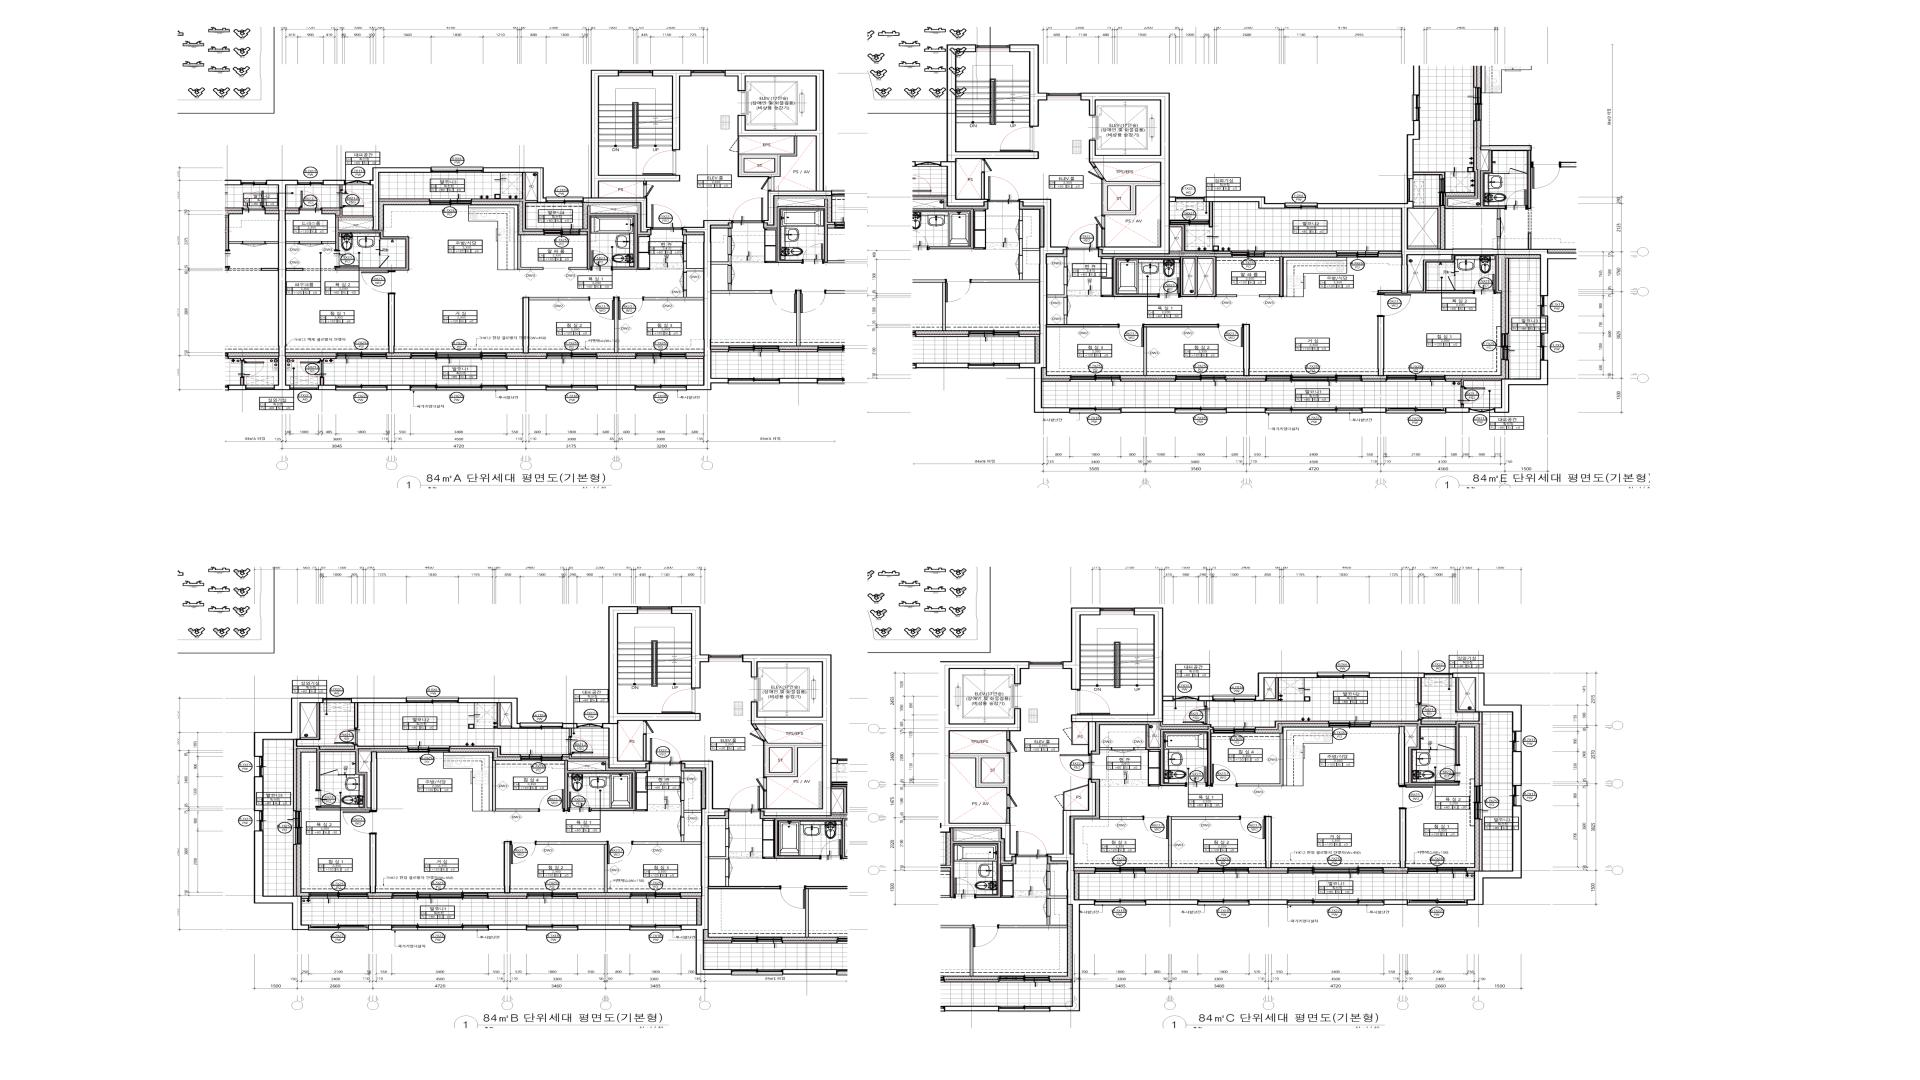door: (661, 688, 696, 713), (1000, 127, 1034, 152), (642, 150, 676, 175), (1399, 785, 1433, 810), (1076, 690, 1110, 715), (649, 738, 680, 765), (651, 204, 683, 231), (1067, 224, 1098, 251), (1059, 754, 1092, 779), (343, 811, 377, 835), (361, 270, 396, 294), (729, 786, 760, 812), (1377, 294, 1411, 316), (617, 297, 645, 320), (1218, 323, 1244, 347), (1118, 323, 1143, 347), (608, 841, 633, 865), (1143, 816, 1168, 840), (1212, 764, 1237, 787), (589, 297, 615, 320), (538, 790, 564, 812), (510, 841, 535, 864), (1240, 816, 1265, 839), (1158, 277, 1180, 298), (568, 791, 591, 812), (1185, 766, 1208, 787), (591, 251, 613, 272), (299, 190, 322, 211), (1461, 386, 1486, 405), (568, 736, 593, 754), (1183, 705, 1208, 724), (1435, 765, 1461, 782), (339, 190, 364, 207), (315, 790, 340, 807), (334, 251, 359, 268), (1474, 274, 1495, 294), (299, 361, 324, 377), (334, 729, 357, 745), (1418, 704, 1441, 720), (749, 728, 766, 745), (1085, 167, 1105, 181), (729, 136, 740, 154), (754, 778, 767, 791), (1006, 794, 1018, 808), (644, 182, 654, 198), (1006, 740, 1018, 753), (1112, 746, 1134, 753), (1095, 215, 1105, 228), (981, 160, 992, 173), (644, 721, 654, 735), (378, 255, 389, 268), (1448, 274, 1456, 290), (320, 769, 339, 775), (1437, 744, 1456, 750), (299, 241, 322, 247)
wall: (1316, 200, 1548, 297), (940, 661, 1030, 861), (725, 70, 832, 225), (603, 607, 702, 769), (583, 70, 680, 232), (1081, 92, 1176, 255), (1071, 608, 1174, 754), (947, 45, 1039, 207), (742, 654, 831, 816), (1019, 199, 1071, 413), (680, 761, 732, 975), (683, 220, 733, 390), (293, 740, 407, 811), (1370, 713, 1482, 786), (266, 179, 298, 390), (1047, 779, 1096, 905), (1466, 806, 1523, 905), (255, 831, 309, 930), (1146, 721, 1215, 786), (471, 173, 545, 232), (1113, 256, 1217, 297), (253, 698, 323, 757), (1453, 673, 1522, 732), (369, 167, 431, 231), (335, 218, 409, 270), (522, 297, 589, 353), (1143, 324, 1217, 376), (580, 206, 638, 269), (564, 760, 636, 811), (1168, 816, 1240, 868), (537, 841, 607, 893), (651, 70, 692, 150), (671, 607, 709, 688), (1063, 608, 1101, 690), (443, 752, 493, 812), (1010, 45, 1047, 127), (1494, 360, 1548, 413), (949, 753, 1010, 795), (1408, 256, 1474, 293), (1238, 733, 1283, 786), (483, 167, 547, 203), (493, 761, 538, 811), (764, 741, 822, 778), (1101, 179, 1160, 215), (458, 698, 521, 729), (1170, 224, 1232, 253), (1257, 673, 1319, 702), (1204, 196, 1286, 208), (517, 235, 543, 270), (1047, 315, 1118, 327), (450, 746, 521, 757), (301, 703, 320, 740), (633, 835, 702, 845), (1456, 678, 1476, 712), (644, 290, 703, 301), (1255, 721, 1329, 729), (770, 748, 793, 773), (981, 758, 1004, 783), (1378, 316, 1385, 376), (371, 752, 377, 811), (1071, 723, 1088, 745), (1399, 810, 1406, 868), (369, 835, 376, 893), (388, 294, 394, 352), (336, 207, 372, 218), (253, 777, 264, 811), (680, 800, 702, 818), (497, 703, 510, 729), (1265, 678, 1279, 702), (1265, 816, 1271, 868), (504, 841, 510, 893), (1244, 324, 1250, 376), (1513, 752, 1522, 786), (1461, 378, 1501, 386), (1399, 727, 1404, 785), (351, 698, 407, 703), (1369, 673, 1425, 678), (1506, 258, 1510, 334), (1121, 407, 1176, 413), (578, 924, 630, 930), (1146, 899, 1199, 905), (286, 356, 336, 361), (1495, 255, 1502, 294), (1047, 285, 1067, 298), (562, 754, 608, 760), (683, 261, 703, 273), (615, 297, 618, 353), (1120, 378, 1176, 382), (1225, 407, 1266, 413), (1145, 870, 1199, 874), (506, 385, 546, 390), (488, 924, 527, 930), (293, 844, 297, 897), (1249, 899, 1288, 905), (1279, 257, 1284, 297), (597, 385, 636, 390), (1265, 251, 1337, 253), (1100, 816, 1143, 820), (1225, 378, 1267, 382), (1249, 870, 1288, 874), (488, 895, 527, 899), (323, 179, 345, 186), (642, 735, 647, 761), (578, 897, 630, 899), (1480, 819, 1482, 870), (1540, 316, 1548, 334), (1362, 407, 1387, 413), (1445, 407, 1470, 413), (380, 199, 430, 202), (386, 385, 411, 390), (353, 703, 359, 728), (1383, 899, 1408, 905), (368, 924, 392, 930), (1042, 378, 1071, 382), (506, 356, 547, 359), (1209, 202, 1213, 228), (981, 173, 985, 199), (596, 356, 636, 359), (562, 723, 578, 729), (1383, 870, 1408, 874), (368, 895, 393, 899), (1418, 678, 1422, 703), (318, 385, 336, 390), (1378, 290, 1402, 294), (1075, 870, 1096, 874), (1199, 696, 1213, 702), (1506, 360, 1510, 378), (1101, 228, 1105, 247), (322, 207, 340, 211), (1361, 380, 1387, 382), (764, 791, 767, 808), (386, 356, 411, 359), (1445, 378, 1461, 382), (1378, 251, 1402, 253), (1006, 808, 1010, 823), (1089, 162, 1097, 169), (680, 895, 700, 898), (1259, 294, 1279, 297), (1217, 294, 1237, 297), (568, 268, 587, 270), (680, 771, 684, 783), (286, 268, 303, 270), (686, 356, 703, 359), (319, 377, 324, 385), (683, 235, 687, 244), (286, 241, 299, 244), (322, 241, 335, 244), (286, 208, 299, 211), (1101, 257, 1113, 260), (1466, 870, 1474, 874), (568, 729, 572, 737), (1134, 748, 1146, 750), (1100, 748, 1112, 750), (1006, 732, 1010, 740), (752, 725, 758, 729), (1064, 257, 1067, 266), (302, 897, 309, 899), (1147, 785, 1160, 786), (1101, 295, 1113, 297), (339, 186, 343, 190), (1461, 405, 1464, 407)
window: (392, 924, 488, 931), (410, 385, 506, 392), (1266, 407, 1362, 414), (393, 893, 488, 899), (1288, 899, 1383, 906), (1288, 868, 1383, 874), (411, 352, 506, 359), (1266, 375, 1361, 381), (309, 924, 368, 931), (1408, 899, 1468, 906), (1176, 375, 1225, 382), (1408, 868, 1466, 874), (1387, 407, 1445, 414), (310, 893, 367, 899), (546, 385, 597, 392), (431, 166, 483, 173), (407, 698, 458, 704), (630, 893, 680, 899), (630, 924, 680, 931), (527, 924, 578, 931), (527, 893, 578, 899), (1095, 899, 1145, 906), (1199, 899, 1249, 906), (1095, 868, 1145, 874), (336, 352, 386, 359), (636, 352, 686, 359), (636, 385, 686, 392), (1176, 407, 1226, 414), (1071, 407, 1121, 414), (1071, 375, 1121, 381), (547, 352, 596, 359), (1387, 376, 1445, 381), (293, 811, 302, 844), (1213, 695, 1255, 702), (1213, 727, 1255, 733), (545, 228, 579, 236), (1329, 721, 1370, 728), (407, 746, 448, 753), (521, 723, 562, 729), (521, 754, 562, 761), (430, 199, 471, 206), (1337, 251, 1378, 257), (1319, 673, 1369, 678), (1199, 868, 1249, 873), (336, 385, 386, 390), (1474, 786, 1482, 819), (1047, 92, 1080, 100), (1501, 334, 1510, 360), (547, 196, 583, 203), (1101, 608, 1134, 615), (1030, 662, 1063, 669), (638, 607, 671, 613), (709, 655, 742, 662), (1232, 251, 1265, 257), (1540, 334, 1548, 360), (1170, 220, 1209, 225), (255, 811, 264, 831), (255, 757, 264, 777), (1513, 786, 1522, 806), (1513, 732, 1522, 752), (976, 46, 1009, 51), (1286, 203, 1316, 208), (1540, 297, 1548, 316), (323, 698, 351, 703), (290, 385, 318, 390), (1176, 196, 1204, 202), (1425, 673, 1452, 678), (1174, 696, 1199, 702), (1470, 407, 1494, 413), (578, 724, 603, 728), (298, 181, 323, 185), (345, 181, 369, 185)
